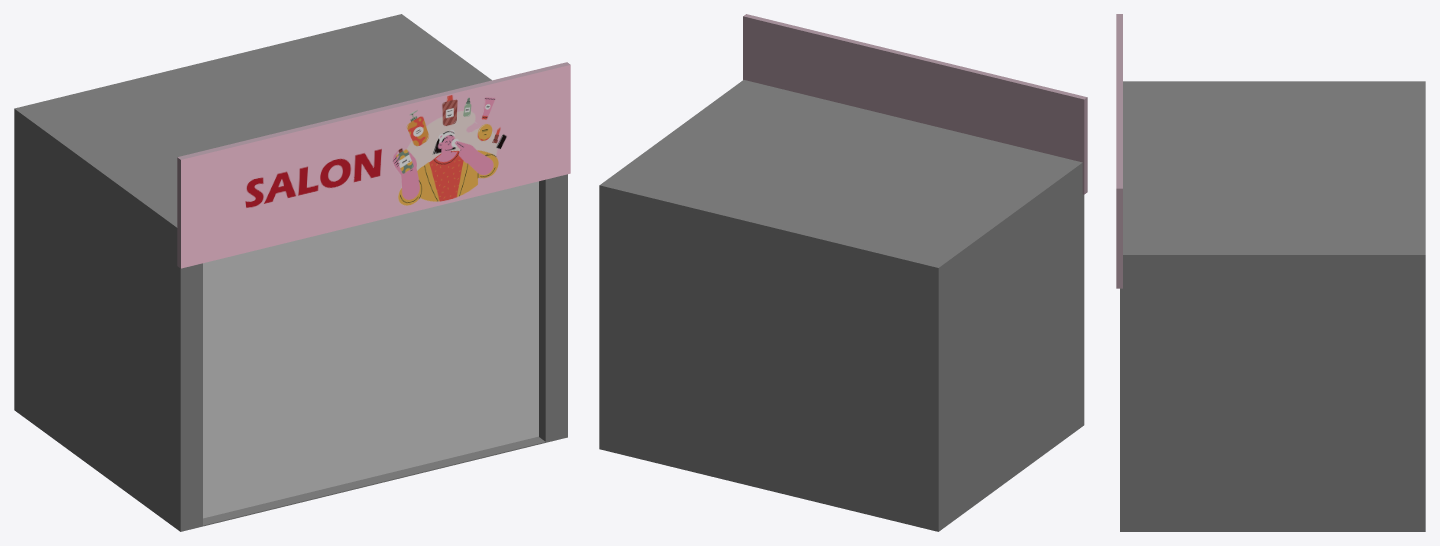
File: shop 5.fbx
3 views of the same model, side by side, from view 1: azimuth 30°, elevation 25°; view 2: azimuth 150°, elevation 25°; view 3: azimuth 270°, elevation 25° (orthographic). The views are drawn at different scales.
Parts seen in each view (by area): view 1: pCube19, pPlane5, pCube14; view 2: pCube19, pCube14; view 3: pCube19, pCube14.
Boxes of the visible parts, left/top/right/bottom form: pCube19: left=14, top=14, right=567, bottom=531; pPlane5: left=203, top=181, right=538, bottom=518; pCube14: left=177, top=62, right=570, bottom=268; pCube19: left=599, top=80, right=1084, bottom=531; pCube14: left=743, top=14, right=1087, bottom=194; pCube19: left=1120, top=81, right=1425, bottom=531; pCube14: left=1116, top=14, right=1122, bottom=288.
Bounding box in the file's own units: 6.38 × 5.85 × 4.77.
